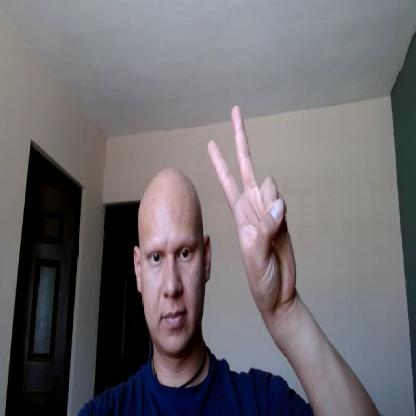V: (207, 105, 297, 300)
